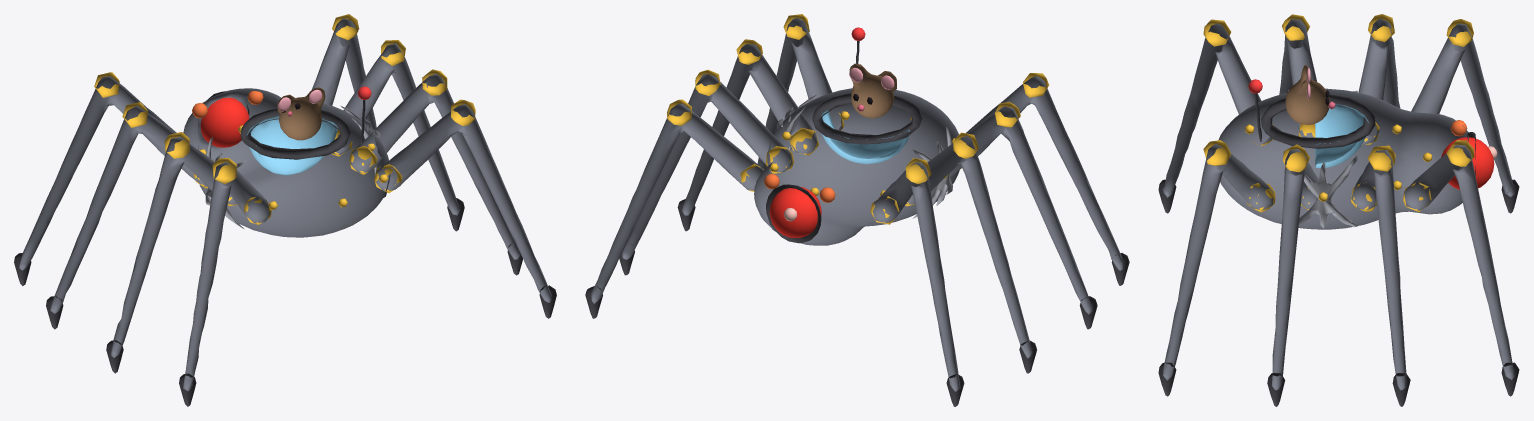
Rendered from boss_spider_machine.glb.
3 renders of one model, left to right at view 1: azimuth 30°, elevation 25°; view 2: azimuth 150°, elevation 25°; view 3: azimuth 270°, elevation 25°, orthographic. The views are drawn at different scales.
Visible parts, largest first — view 1: body, legBR, leg3R, legBL, leg3L, leg2L, legFL, leg2R, legFR, eye; view 2: body, legFR, leg2R, legFL, leg2L, leg3R, leg3L, legBL, legBR, eye; view 3: body, legBR, legFR, leg2R, legFL, legBL, leg3R, leg2L, leg3L, eye.
Boxes of the visible parts, x1,y1,x2,y2 form: body: (183, 86, 390, 237); legBR: (374, 99, 556, 318); leg3R: (349, 69, 522, 275); legBL: (179, 158, 271, 406); leg3L: (106, 132, 237, 373); leg2L: (46, 102, 213, 329); legFL: (14, 72, 176, 285); leg2R: (331, 40, 464, 231); legFR: (311, 14, 386, 197); eye: (200, 97, 249, 147); body: (754, 27, 959, 245); legFR: (585, 99, 763, 318); leg2R: (619, 69, 794, 275); legFL: (870, 158, 964, 406); leg2L: (905, 132, 1036, 373); leg3R: (677, 39, 818, 231); leg3L: (936, 101, 1097, 329); legBL: (961, 73, 1129, 285); legBR: (757, 14, 844, 169); eye: (769, 187, 821, 237); body: (1218, 64, 1497, 229); legBR: (1158, 140, 1275, 396); legFR: (1403, 140, 1519, 396); leg2R: (1351, 145, 1410, 406); legFL: (1411, 19, 1519, 213); legBL: (1158, 19, 1273, 213); leg3R: (1267, 144, 1320, 406); leg2L: (1358, 14, 1400, 144); leg3L: (1279, 14, 1316, 137); eye: (1441, 137, 1494, 189).
Bounding box in the file's own units: 4.8 × 2.59 × 3.46.
Materials: 1 (1 with a texture image).
